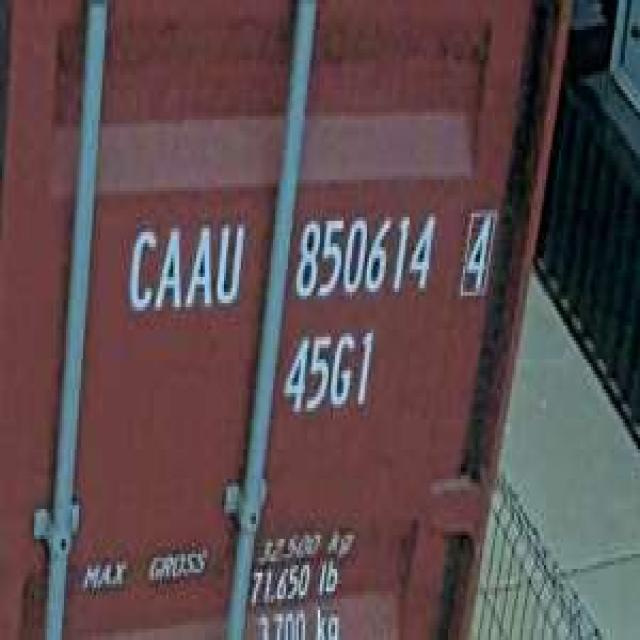dv: (454, 198, 497, 307)
owner: (120, 206, 248, 326)
serial: (288, 202, 437, 307)
size: (277, 318, 378, 423)
